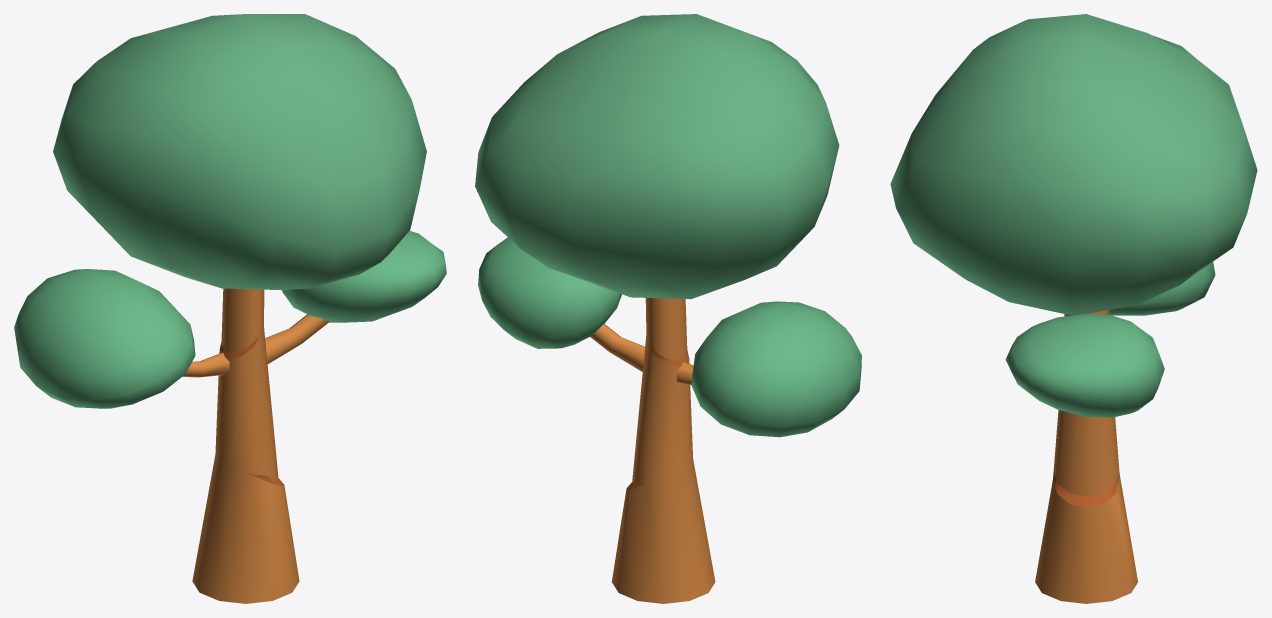
File: Tree_01.fbx
The picture shows the model from 3 angles, left to right: view 1: azimuth 30°, elevation 25°; view 2: azimuth 150°, elevation 25°; view 3: azimuth 270°, elevation 25°; orthographic projection. The views are drawn at different scales.
Visible parts, largest first — view 1: Tree_02; view 2: Tree_02; view 3: Tree_02.
Part boxes in pixels (<box>): Tree_02: <box>14,14,446,603</box>; Tree_02: <box>475,14,861,603</box>; Tree_02: <box>890,14,1257,603</box>.
Bounding box in the file's own units: 4.65 × 6.53 × 3.98.
